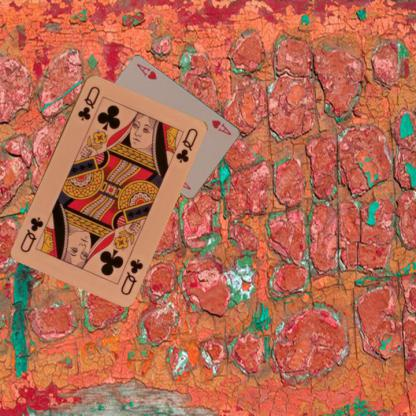Ah: (209, 116, 233, 136)
Qc: (118, 256, 144, 296), (75, 83, 101, 122)
